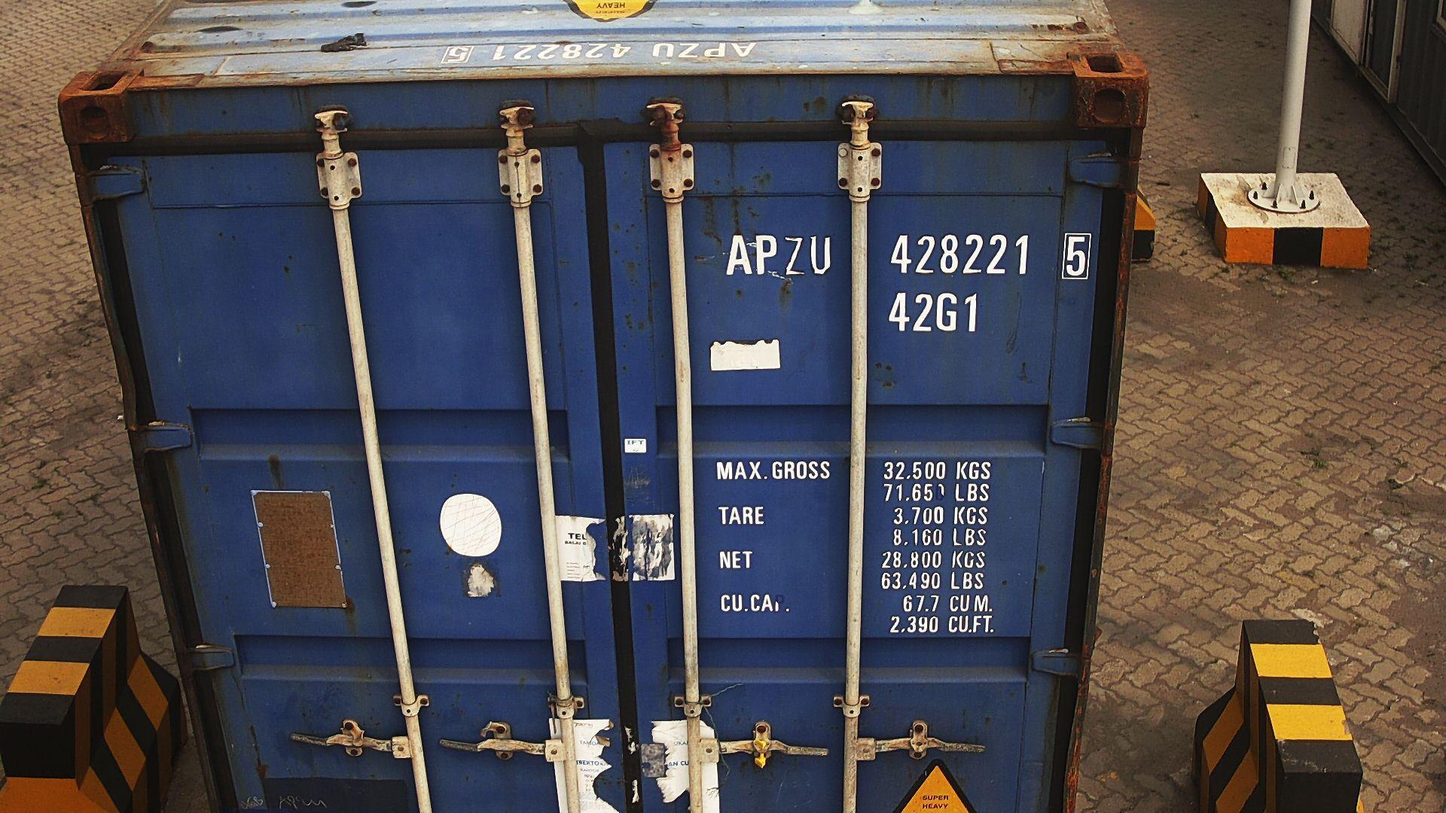container-numbers: (718, 230, 1095, 283), (883, 289, 982, 338)
